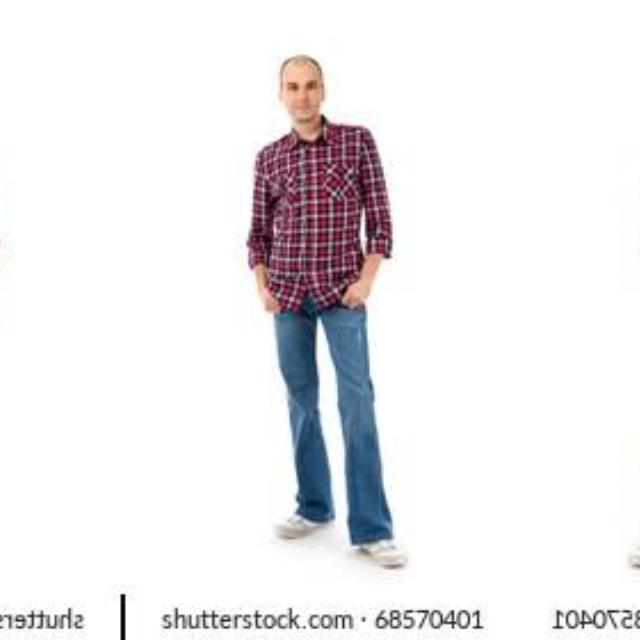person: (230, 53, 430, 574), (604, 53, 640, 574), (0, 53, 13, 574)
